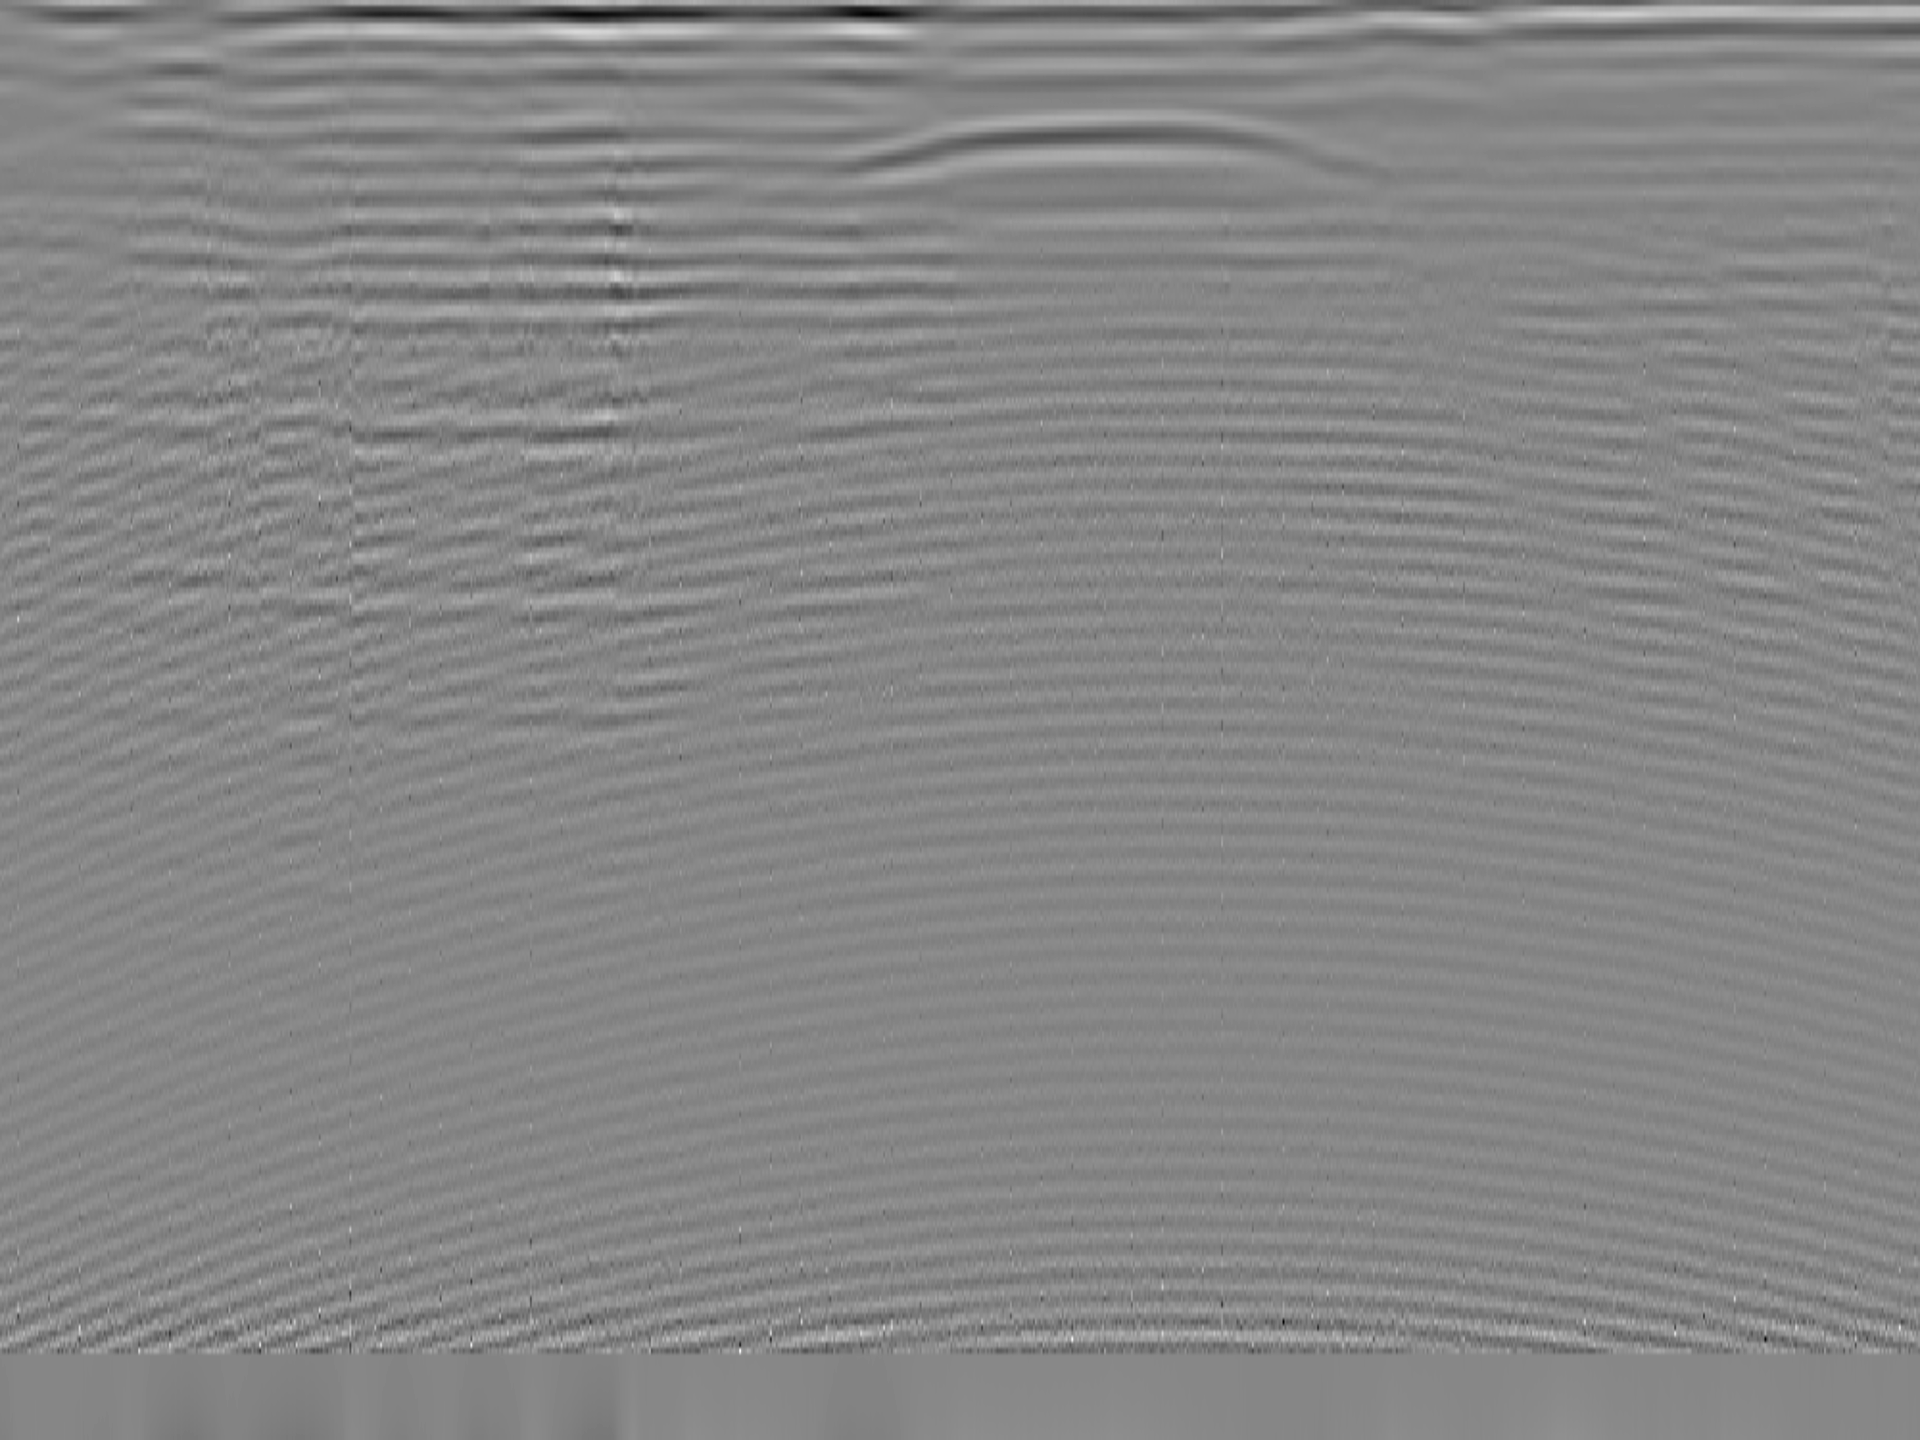Tunnel: (819, 112, 1400, 188)
